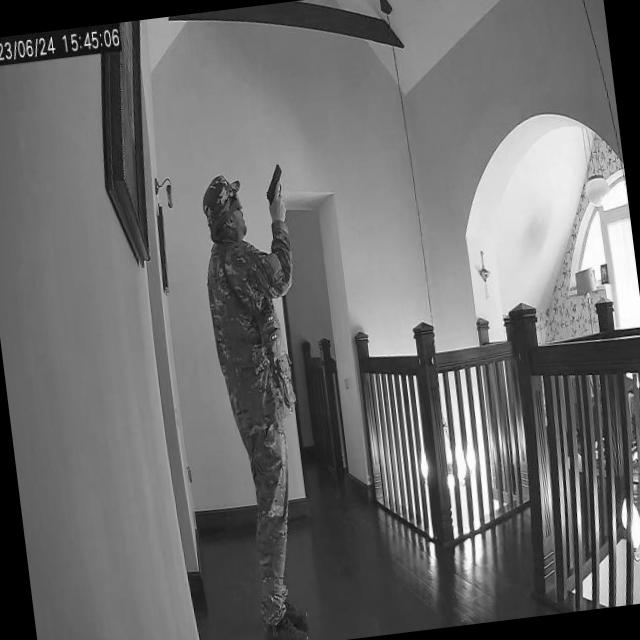gun: (261, 159, 289, 212)
person with a gun: (191, 163, 346, 640)
